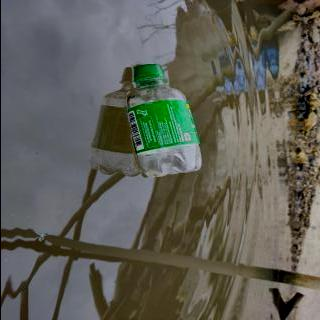bottle: (123, 62, 204, 180)
